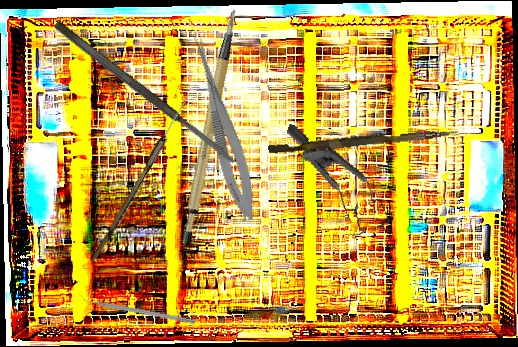Chopper: (77, 290, 197, 325)
Micro Scissor: (181, 32, 264, 224)
Pusher: (267, 122, 459, 159)
Scalpel Handle: (150, 8, 274, 246)
Spatula Surgical: (52, 18, 238, 168)
Speculum: (262, 123, 409, 246)
Surgical Spoon: (90, 90, 193, 265)
